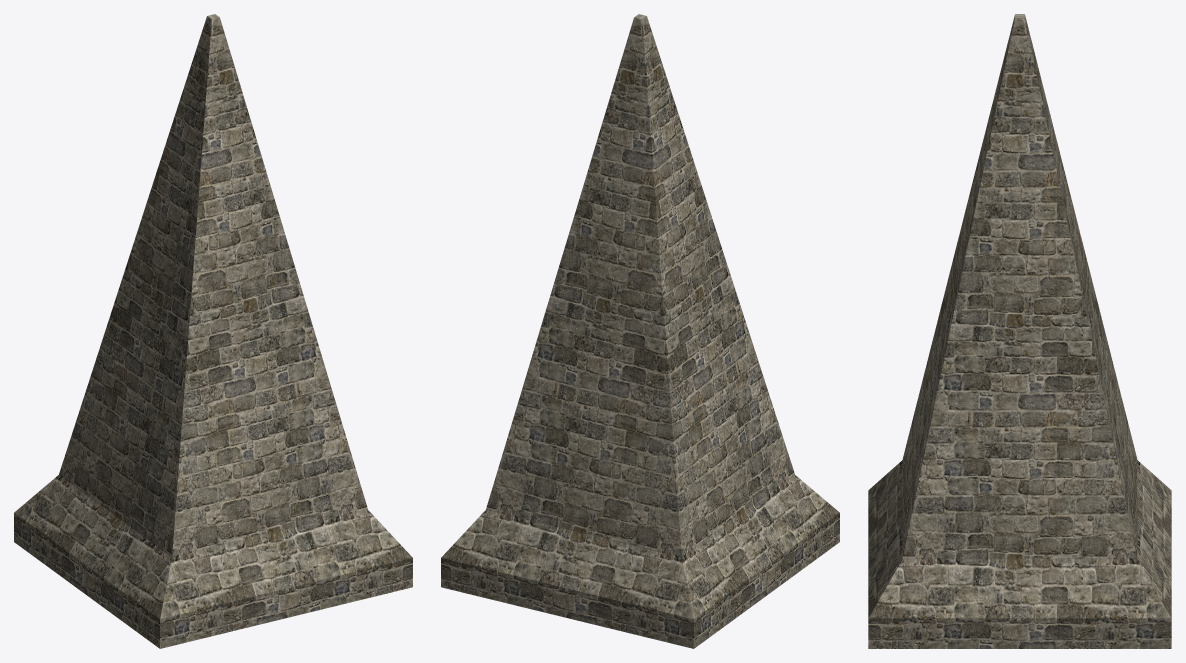
File: SM_Plains_CastleTower_03.FBX
3 renders of one model, left to right at view 1: azimuth 30°, elevation 25°; view 2: azimuth 150°, elevation 25°; view 3: azimuth 270°, elevation 25°, orthographic. The views are drawn at different scales.
Visible parts, largest first — view 1: SM_Plains_CastleTower_03; view 2: SM_Plains_CastleTower_03; view 3: SM_Plains_CastleTower_03.
Part boxes in pixels (x1,y1,x2,y2): SM_Plains_CastleTower_03: (14,14,412,648); SM_Plains_CastleTower_03: (441,14,839,648); SM_Plains_CastleTower_03: (868,14,1171,648).
Bounding box in the file's own units: 177 × 367 × 177.
